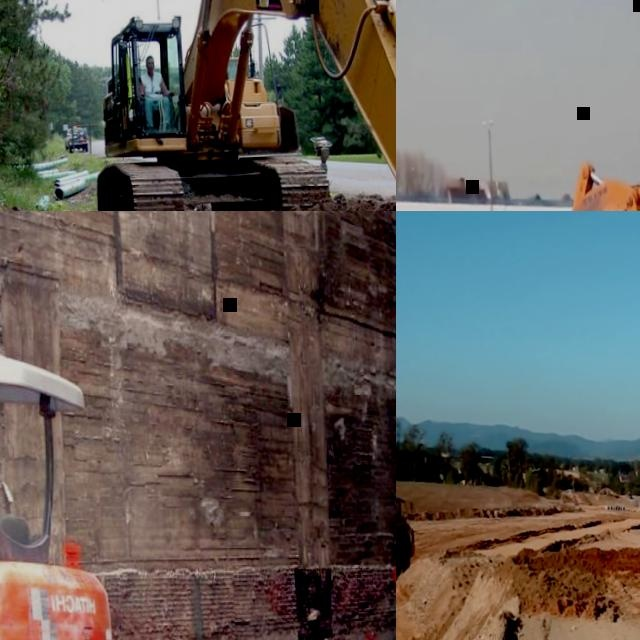NO-Hardhat: (144, 53, 154, 61)
NO-Mask: (146, 62, 155, 71)
NO-Safety Vest: (141, 71, 162, 94)
Person: (139, 52, 173, 126)
machinery: (88, 0, 396, 211), (0, 344, 116, 640), (475, 87, 640, 211), (396, 486, 414, 587)
vehicle: (63, 122, 87, 154)
